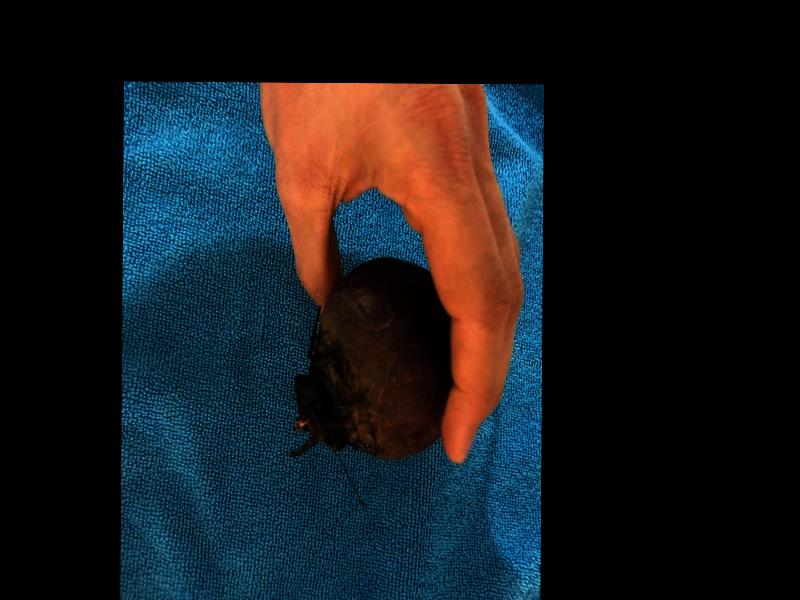Beet: (290, 258, 451, 459)
